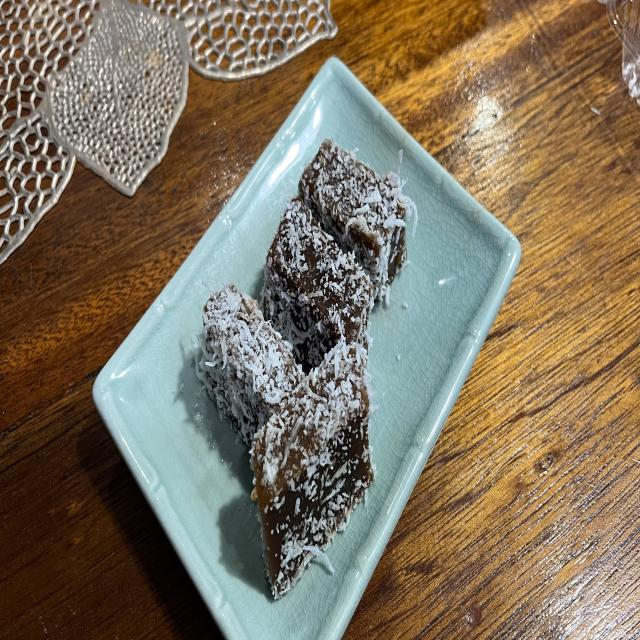kaswi: (251, 342, 374, 598), (261, 198, 374, 373), (299, 140, 418, 304), (196, 284, 304, 444)
